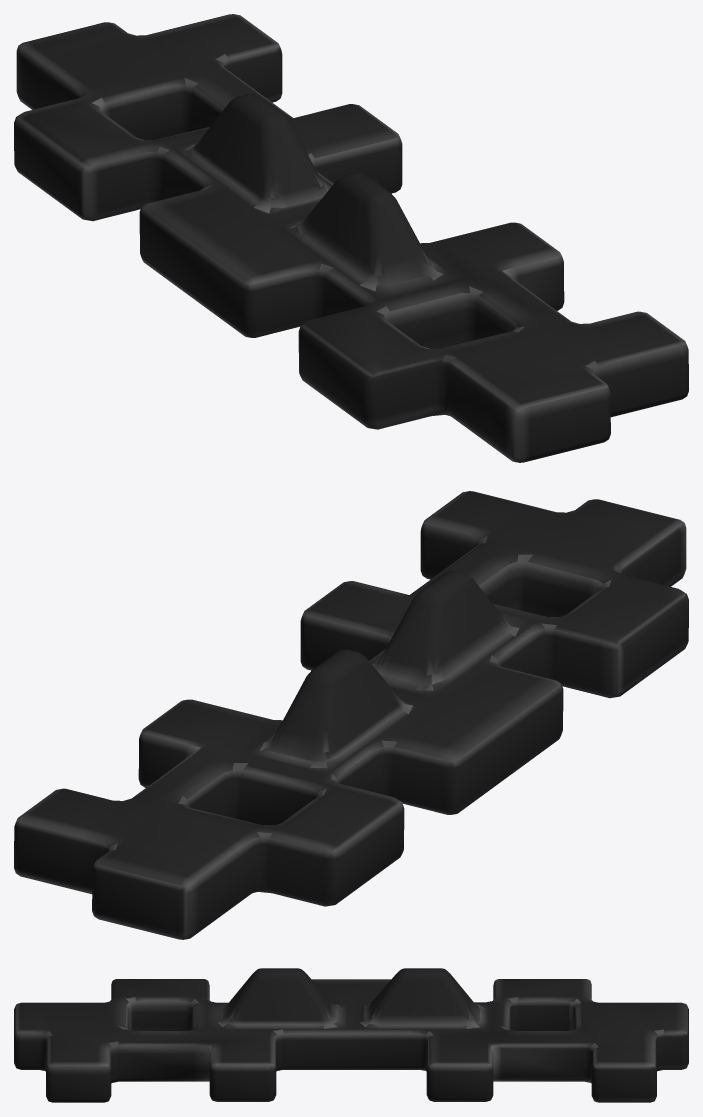
3 views of the same model, one above another, from view 1: azimuth 30°, elevation 25°; view 2: azimuth 150°, elevation 25°; view 3: azimuth 270°, elevation 25° (orthographic). The views are drawn at different scales.
Visible parts, largest first — view 1: Plane.001; view 2: Plane.001; view 3: Plane.001.
Part boxes in pixels (x1,y1,x2,y2): Plane.001: [14, 14, 688, 462]; Plane.001: [14, 491, 688, 939]; Plane.001: [14, 968, 688, 1102].
Size of the model in its own units: 18.87 by 8.43 by 59.36.
